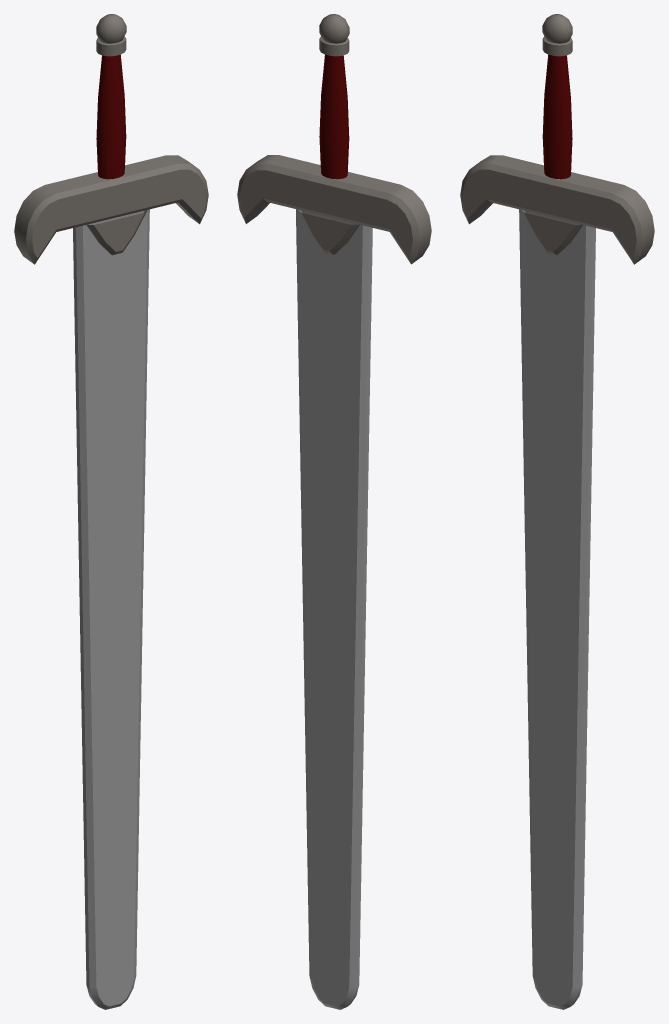
Rendered from Espada_Modelo1.fbx.
The picture shows the model from 3 angles, left to right: view 1: azimuth 30°, elevation 25°; view 2: azimuth 150°, elevation 25°; view 3: azimuth 330°, elevation 25°; orthographic projection.
Visible parts, largest first — view 1: Espada_Modelo1; view 2: Espada_Modelo1; view 3: Espada_Modelo1.
Boxes of the visible parts, x1,y1,x2,y2 form: Espada_Modelo1: (14,14,208,1009); Espada_Modelo1: (237,14,431,1009); Espada_Modelo1: (460,14,654,1009).
Size of the model in its own units: 0.2796 by 1.45 by 0.0425.
